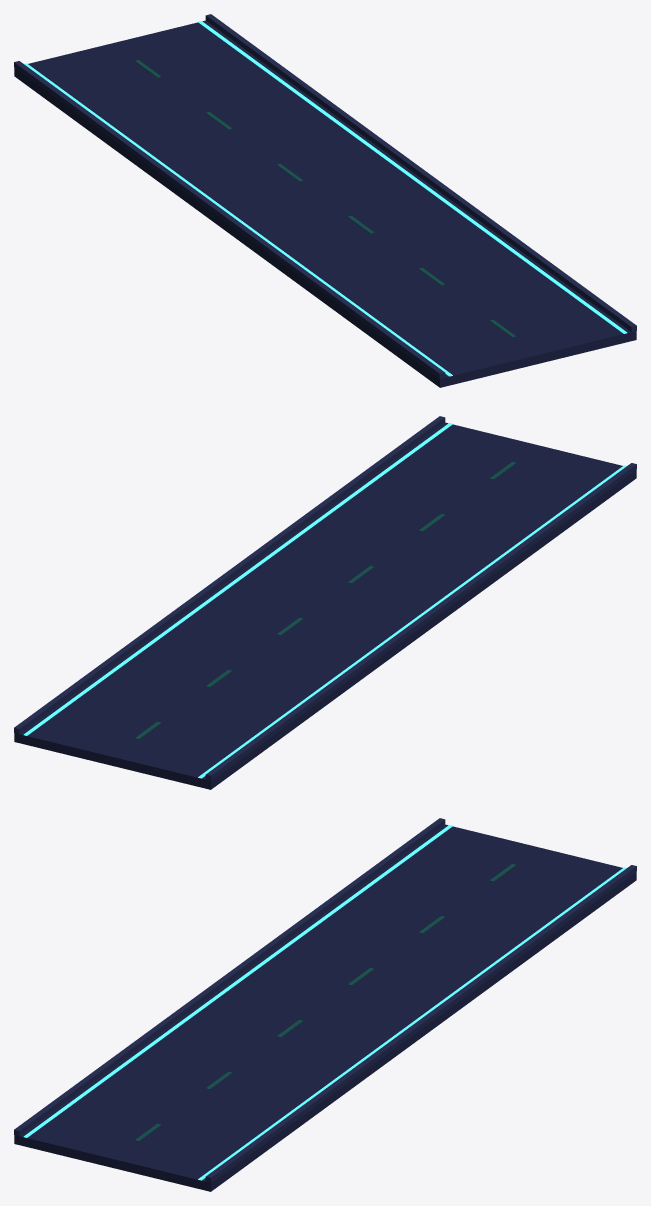
Rendered from deck.glb.
The picture shows the model from 3 angles, top to bottom: view 1: azimuth 30°, elevation 25°; view 2: azimuth 150°, elevation 25°; view 3: azimuth 330°, elevation 25°; orthographic projection.
Visible parts, largest first — view 1: DeckSlab, DeckRail, DeckRail.001, DeckLine.001, DeckLine; view 2: DeckSlab, DeckRail, DeckRail.001, DeckLine.001, DeckLine; view 3: DeckSlab, DeckRail.001, DeckRail, DeckLine, DeckLine.001.
Part boxes in pixels (bbox=[...]): DeckSlab: bbox=[14, 20, 636, 387]; DeckRail: bbox=[14, 61, 445, 378]; DeckRail.001: bbox=[205, 14, 636, 331]; DeckLine.001: bbox=[198, 21, 627, 333]; DeckLine: bbox=[24, 63, 452, 376]; DeckSlab: bbox=[14, 422, 636, 789]; DeckRail: bbox=[205, 463, 636, 780]; DeckRail.001: bbox=[14, 416, 445, 733]; DeckLine.001: bbox=[23, 423, 452, 735]; DeckLine: bbox=[198, 465, 626, 778]; DeckSlab: bbox=[14, 824, 636, 1191]; DeckRail.001: bbox=[205, 865, 636, 1182]; DeckRail: bbox=[14, 818, 445, 1135]; DeckLine: bbox=[23, 825, 452, 1137]; DeckLine.001: bbox=[198, 867, 626, 1180].
Bounding box in the file's own units: 8.02 × 0.55 × 30.
